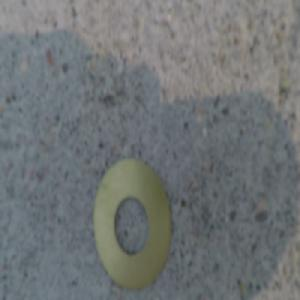Washer: (92, 157, 174, 287)
